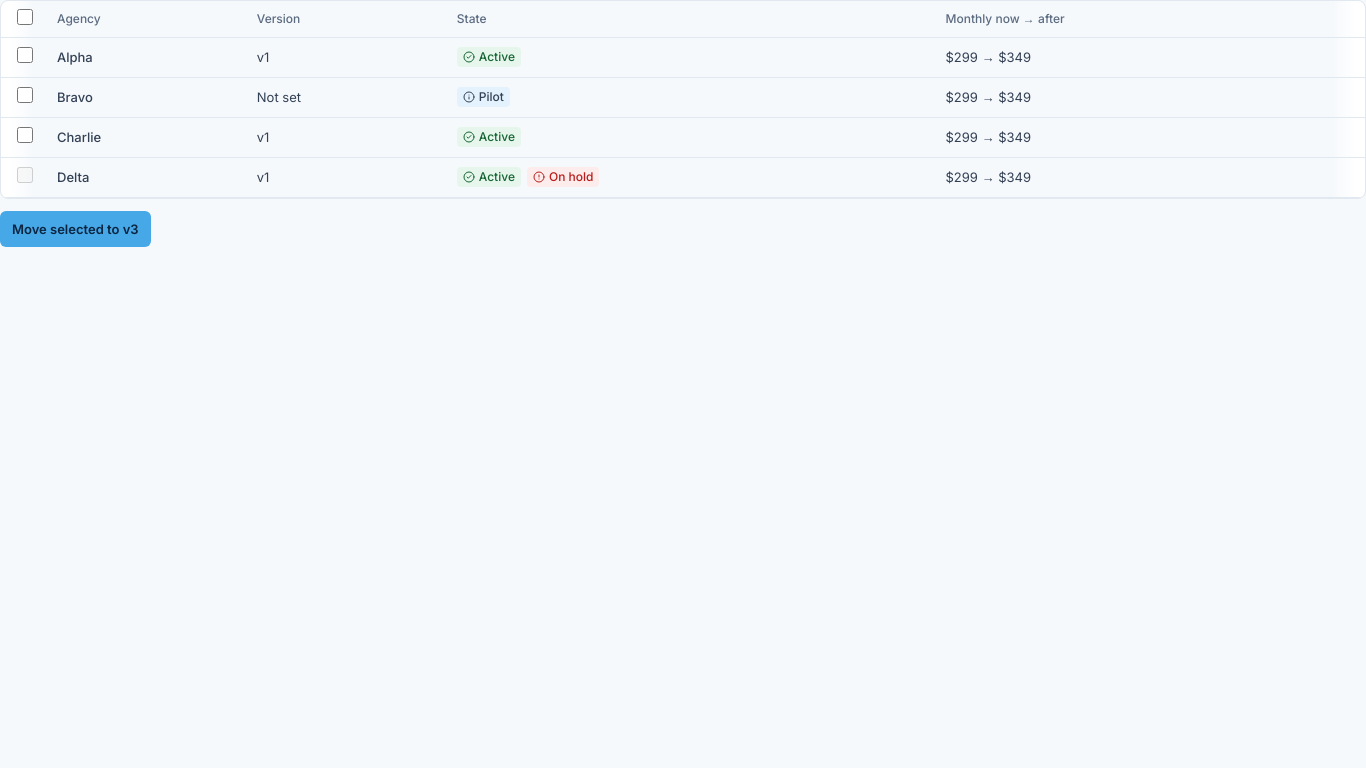
Test case: PlanAgencies › the dialog lists now to after per agency, both warnings and the note
The width and height of the screenshot is (1366, 768).
Click the checkbox named "Select Alpha": (25, 55) [17,47,33,63]
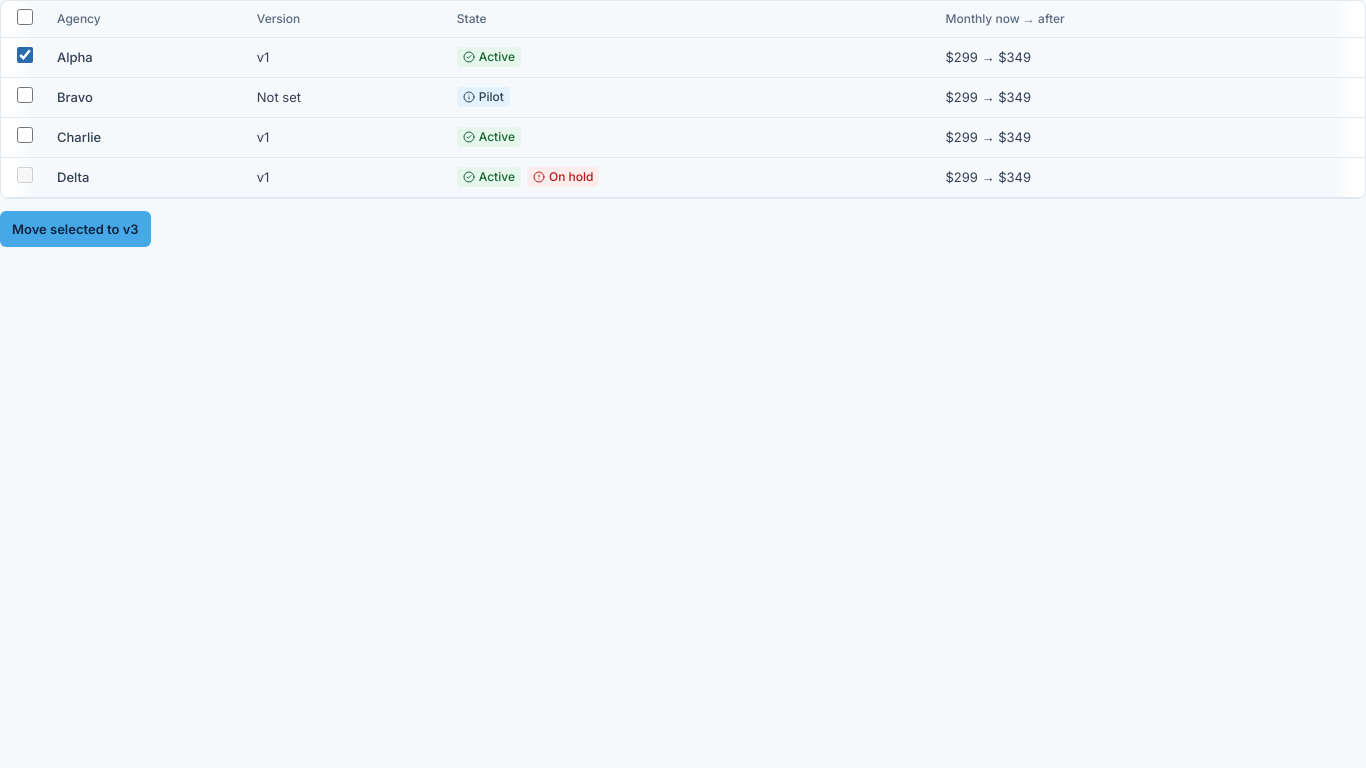
Click the checkbox named "Select Bravo": (25, 95) [17,87,33,103]
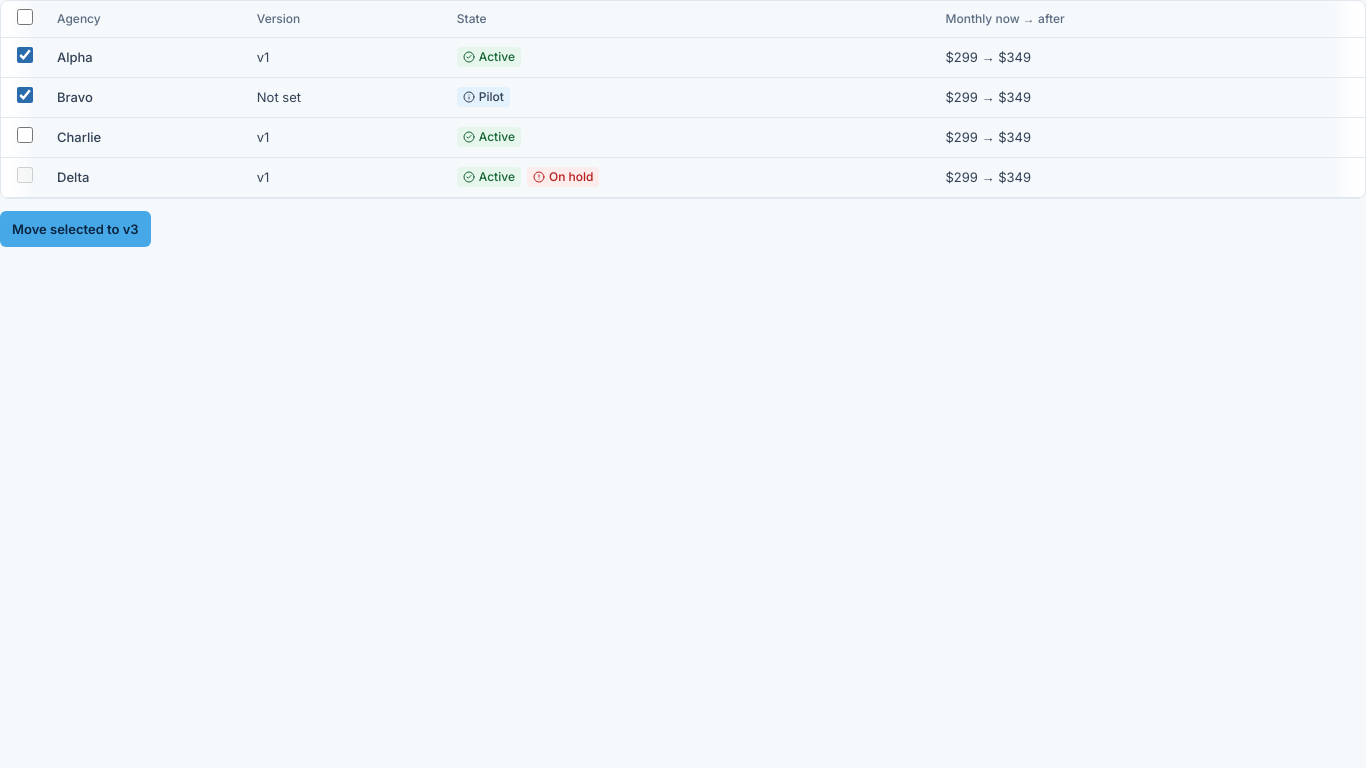
Click the checkbox named "Select Charlie": (25, 135) [17,127,33,143]
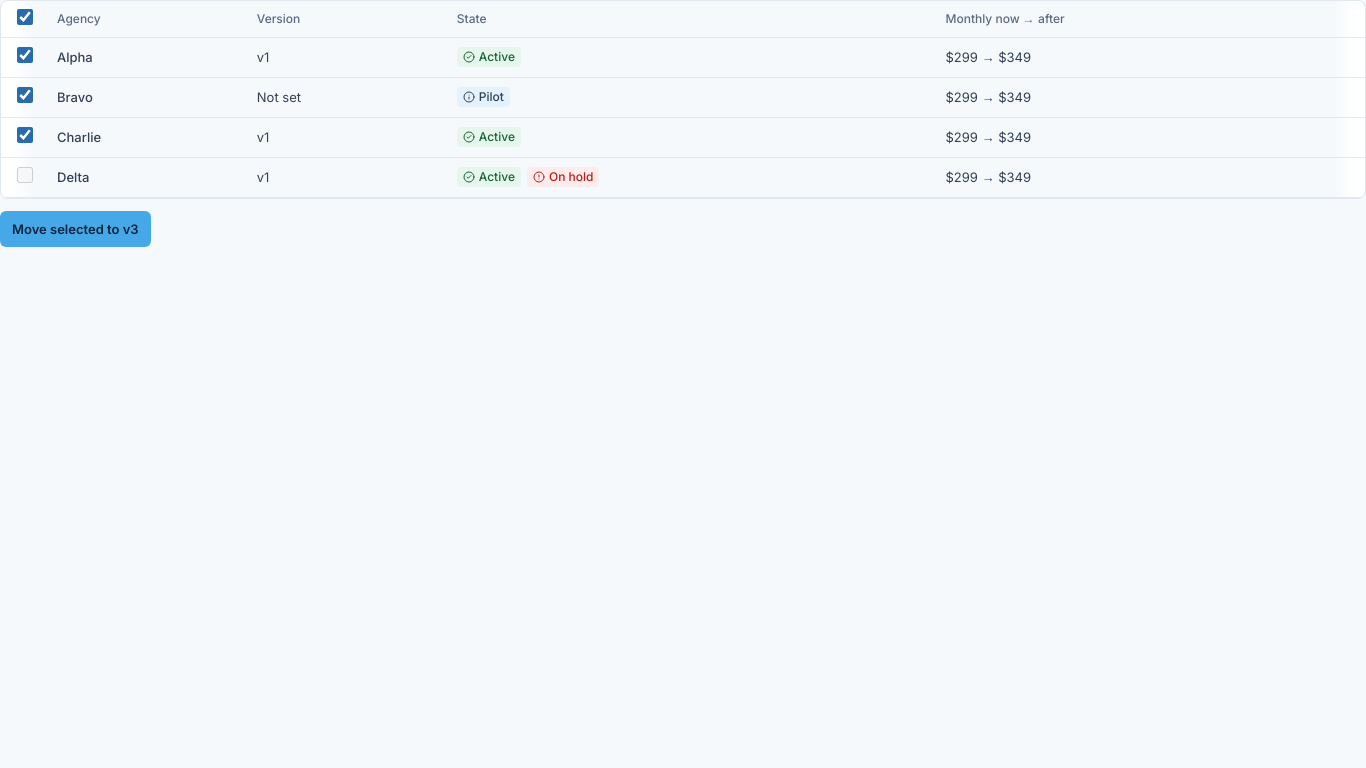
Click the button "Move selected to v3": (75, 228) [0,210,151,246]
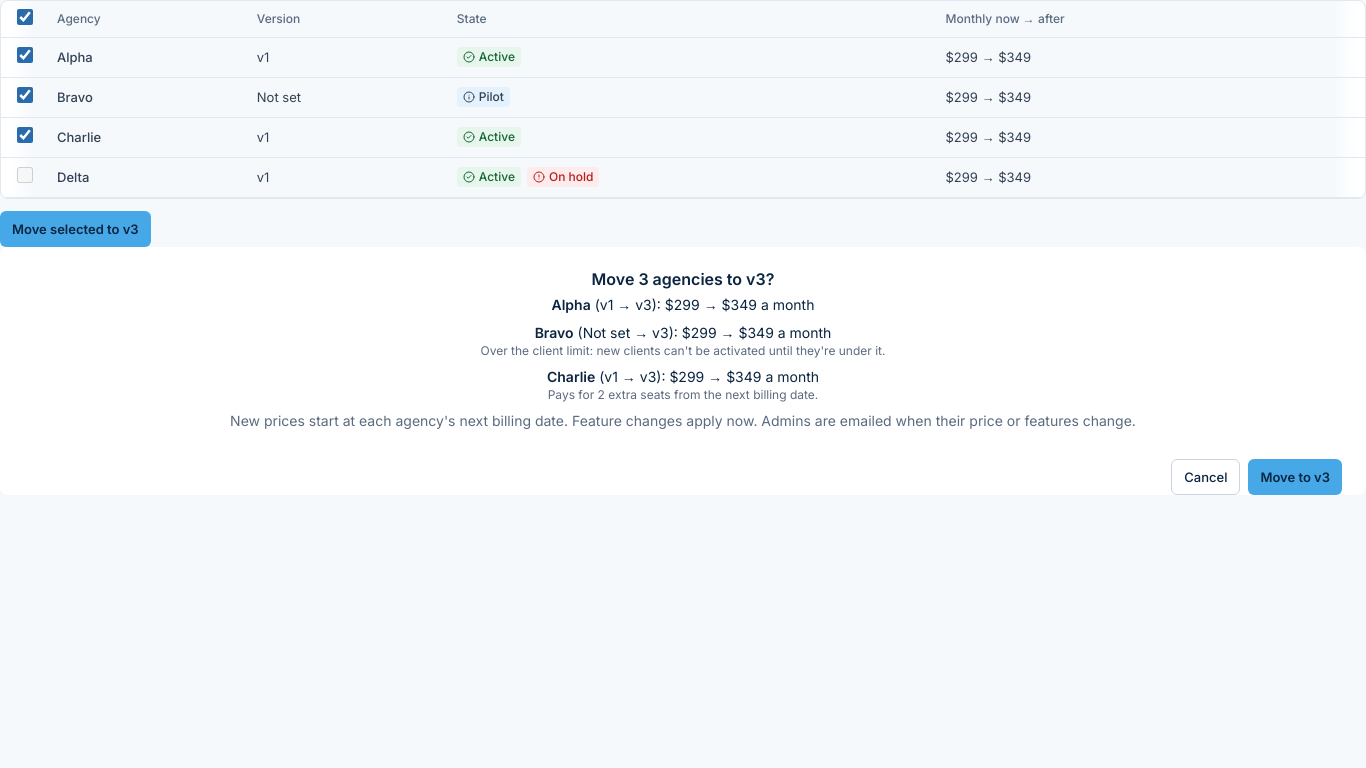
expect the list item "Alpha" shows "(v1 → v3): $299 → $349": met, box [552,296,814,312]
expect the text "Pays for 2 extra seats from the next billing date." is shown: met, box [548,386,818,402]
expect the text "Over the client limit: new clients can't be activated until they're under it." is shown: met, box [480,342,886,358]
